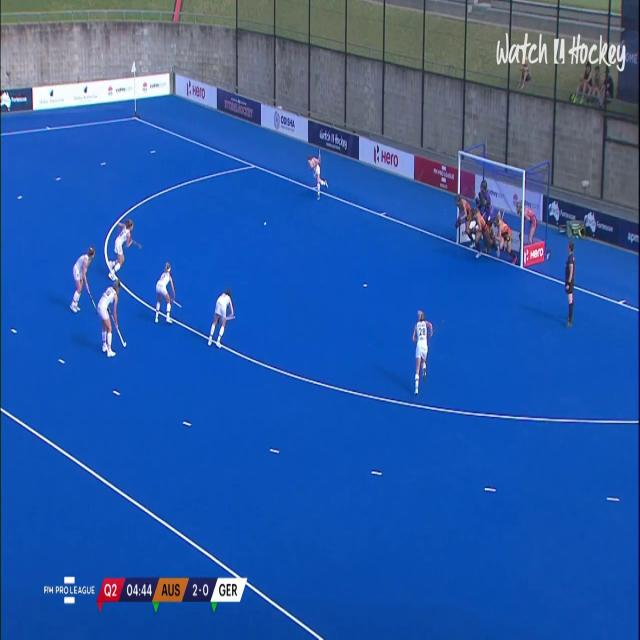ball: (261, 214, 270, 231)
